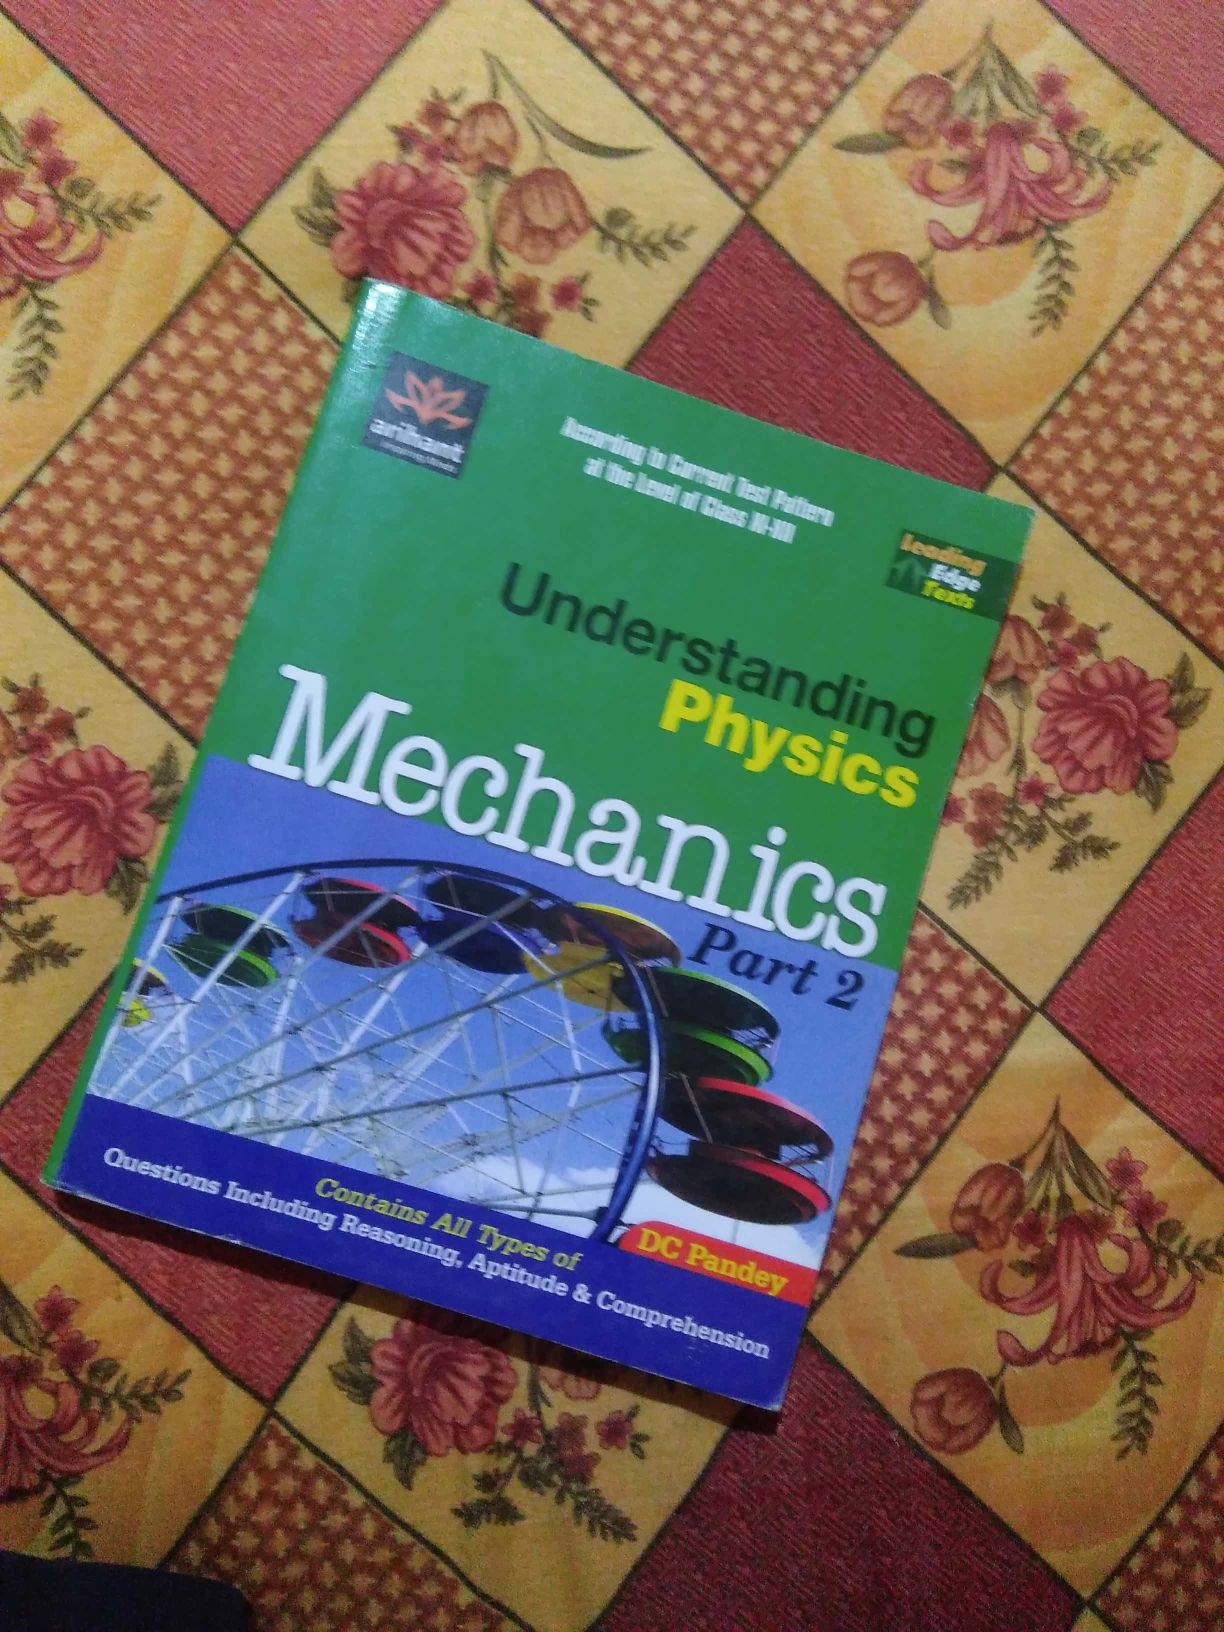mechanics: (103, 315, 1076, 1426)
